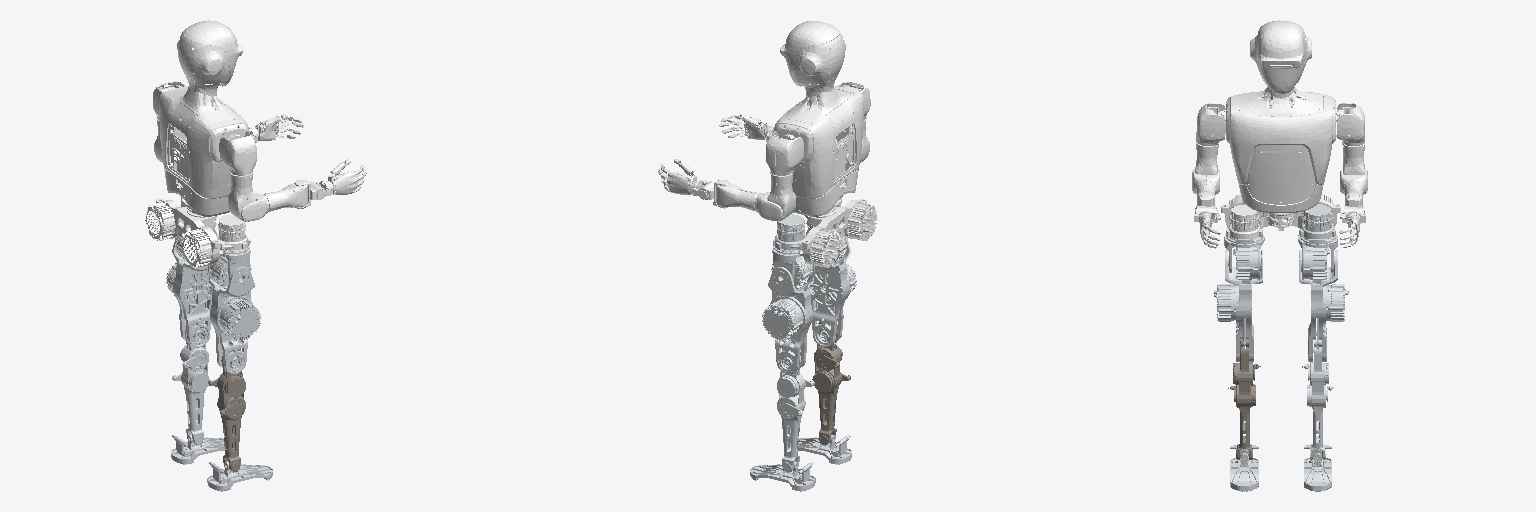
robot.urdf — lapi_description:
<?xml version="1.0" encoding="utf-8"?>

<robot name="lapi_description">
  <link name="base_link">
    <inertial>
      <origin xyz="0.027128 0.000293 0.10205" rpy="0 0 0" />
      <mass value="28" />
      <inertia
        ixx="1.4945"
        ixy="-0.005071"
        ixz="0.10439"
        iyy="1.222"
        iyz="0.000433"
        izz="1.0953" />
    </inertial>
    <visual>
      <origin xyz="0 0 0" rpy="0 0 0" />
      <geometry>
        <mesh filename="package://lapi_description/meshes/base_link.STL" />
      </geometry>
      <material name="">
        <color rgba="1 1 1 1" />
      </material>
    </visual>
    <collision>
      <origin xyz="0 0 0.2" rpy="0 0 0" />
      <geometry>
        <box size="0.20 0.33 0.35" />
      </geometry>
    </collision>
    <collision>
      <origin xyz="0.01 0.24 0.3" rpy="0 1.57 0" />
      <geometry>
        <cylinder radius="0.06" length="0.09 "/>
      </geometry>
    </collision>
    <collision>
      <origin xyz="0.01 0.25 0.13" rpy="0 0 0" />
      <geometry>
        <cylinder radius="0.04" length="0.15 "/>
      </geometry>
    </collision>
    <collision>
      <origin xyz="0.26 0.25 0.08" rpy="0 1.57 0" />
      <geometry>
        <cylinder radius="0.04" length="0.4 "/>
      </geometry>
    </collision>
    <collision>
      <origin xyz="0.01 -0.24 0.3" rpy="0 1.57 0" />
      <geometry>
        <cylinder radius="0.06" length="0.09 "/>
      </geometry>
    </collision>
    <collision>
      <origin xyz="0.01 -0.25 0.13" rpy="0 0 0" />
      <geometry>
        <cylinder radius="0.04" length="0.15 "/>
      </geometry>
    </collision>
    <collision>
      <origin xyz="0.26 -0.25 0.08" rpy="0 1.57 0" />
      <geometry>
        <cylinder radius="0.04" length="0.4 "/>
      </geometry>
    </collision>
    <collision>
      <origin xyz="-0.08 -0.125 -0.1" rpy="0 1.57 0" />
      <geometry>
        <cylinder radius="0.07" length="0.072 "/>
      </geometry>
    </collision>
    <collision>
      <origin xyz="-0.08 0.125 -0.1" rpy="0 1.57 0" />
      <geometry>
        <cylinder radius="0.07" length="0.072"/>
      </geometry>
    </collision>
    <collision>
      <origin xyz="0 0 -0.05" rpy="0 0 0" />
      <geometry>
        <cylinder radius="0.05" length="0.07"/>
      </geometry>
    </collision>
  </link>
  <link name="Hip_L_Roll_Link">
    <inertial>
      <origin xyz="0.078109 0 0.024666" rpy="0 0 0" />
      <mass value="2.28" />
      <inertia
        ixx="0.002612"
        ixy="2E-06"
        ixz="0.000477"
        iyy="0.003754"
        iyz="2E-06"
        izz="0.003834" />
    </inertial>
    <visual>
      <origin xyz="0 0 0" rpy="0 0 0" />
      <geometry>
        <mesh filename="package://lapi_description/meshes/Hip_L_Roll_Link.STL" />
      </geometry>
      <material name="">
        <color rgba="0.89804 0.91765 0.92941 1" />
      </material>
    </visual>
    <collision>
      <origin xyz="0.09 0 -0.006" rpy="0 0 0" />
      <geometry>
        <cylinder radius="0.07" length="0.035" />
      </geometry>
    </collision>
    <collision>
      <origin xyz="0.09 0 0.05" rpy="0 0 0" />
      <geometry>
        <cylinder radius="0.05" length="0.06" />
      </geometry>
    </collision>
  </link>
  <joint name="Hip_L_Roll_Joint" type="revolute">
    <origin xyz="-0.042 0.1275 -0.097" rpy="0 0 0" />
    <parent link="base_link" />
    <child link="Hip_L_Roll_Link" />
    <axis xyz="1 0 0" />
    <limit lower="-0.227" upper="0.523" effort="200" velocity="5" />
  </joint>
  <link name="Hip_L_Yaw_Link">
    <inertial>
      <origin xyz="0.000217 -0.004903 -0.085363" rpy="0 0 0" />
      <mass value="3.738" />
      <inertia
        ixx="0.008843"
        ixy="6E-06"
        ixz="0.000109"
        iyy="0.008235"
        iyz="6E-06"
        izz="0.004503" />
    </inertial>
    <visual>
      <origin xyz="0 0 0" rpy="0 0 0" />
      <geometry>
        <mesh filename="package://lapi_description/meshes/Hip_L_Yaw_Link.STL" />
      </geometry>
      <material name="">
        <color rgba="0.89804 0.91765 0.92941 1" />
      </material>
    </visual>
    <collision>
      <origin xyz="0 0 -0.11" rpy="1.57 0 0" />
      <geometry>
        <cylinder radius="0.07" length="0.13"/>
      </geometry>
    </collision>
  </link>
  <joint name="Hip_L_Yaw_Joint" type="revolute">
    <origin xyz="0.087 0 -0.0135" rpy="0 0 0" />
    <parent link="Hip_L_Roll_Link" />
    <child link="Hip_L_Yaw_Link" />
    <axis xyz="0 0 1" />
    <limit lower="-0.5" upper="0.65" effort="200" velocity="5" />
  </joint>
  <link name="Hip_L_Pitch_Link">
    <inertial>
      <origin xyz="-7.7E-05 0.02564 -0.167614" rpy="0 0 0" />
      <mass value="6.22" />
      <inertia
        ixx="0.056729"
        ixy="-1.7E-05"
        ixz="0.000267"
        iyy="0.053228"
        iyz="0.003198"
        izz="0.012699" />
    </inertial>
    <visual>
      <origin xyz="0 0 0" rpy="0 0 0" />
      <geometry>
        <mesh filename="package://lapi_description/meshes/Hip_L_Pitch_Link.STL" />
      </geometry>
      <material name="">
        <color rgba="0.89804 0.91765 0.92941 1" />
      </material>
    </visual>
    <collision>
      <origin xyz="0 0.035 -0.16" rpy="1.57 0 0" />
      <geometry>
        <cylinder radius="0.08" length="0.12"/>
      </geometry>
    </collision>
    <collision>
      <origin xyz="0 0 -0.22" rpy="0 0 0" />
      <geometry>
        <box size="0.13 0.07 0.25"/>
      </geometry>
    </collision>
  </link>
  <joint name="Hip_L_Pitch_Joint" type="revolute">
    <origin
      xyz="0 0 -0.10595"
      rpy="0 0 0" />
    <parent link="Hip_L_Yaw_Link" />
    <child link="Hip_L_Pitch_Link" />
    <axis xyz="0 1 0" />
    <limit lower="-0.78" upper="0.78" effort="200" velocity="5" />
  </joint>
  <link name="Knee_L_Pitch_Link">
    <inertial>
      <origin xyz="-0.002029 -8.4E-05 -0.156302" rpy="0 0 0" />
      <mass value="3.32" />
      <inertia
        ixx="0.02978"
        ixy="1E-06"
        ixz="-9.6E-05"
        iyy="0.030147"
        iyz="-0.000254"
        izz="0.001936" />
    </inertial>
    <visual>
      <origin xyz="0 0 0" rpy="0 0 0" />
      <geometry>
        <mesh filename="package://lapi_description/meshes/Knee_L_Pitch_Link.STL" />
      </geometry>
      <material name="">
        <color rgba="0.89804 0.91765 0.92941 1" />
      </material>
    </visual>
    <collision>
      <origin xyz="0 0 -0.22" rpy="0 0 0" />
      <geometry>
        <box size="0.1 0.08 0.3"/>
      </geometry>
    </collision>
  </link>
  <joint name="Knee_L_Pitch_Joint" type="revolute">
    <origin xyz="0 0 -0.34" rpy="0 0 0" />
    <parent link="Hip_L_Pitch_Link" />
    <child link="Knee_L_Pitch_Link" />
    <axis xyz="0 1 0" />
    <limit lower="0" upper="1.2" effort="200" velocity="5" />
  </joint>
  <link name="Ankle_L_Pitch_Link">
    <inertial>
      <origin xyz="0 0 0" rpy="0 0 0" />
      <mass value="0.088" />
      <inertia
        ixx="8E-06"
        ixy="0"
        ixz="0"
        iyy="8E-06"
        iyz="0"
        izz="1.4E-05" />
    </inertial>
    <visual>
      <origin xyz="0 0 0" rpy="0 0 0" />
      <geometry>
        <mesh filename="package://lapi_description/meshes/Ankle_L_Pitch_Link.STL" />
      </geometry>
      <material name="">
        <color rgba="0.65098 0.61961 0.58824 1" />
      </material>
    </visual>
  </link>
  <joint name="Ankle_L_Pitch_Joint" type="revolute">
    <origin xyz="0 0 -0.4" rpy="0 0 0" />
    <parent link="Knee_L_Pitch_Link" />
    <child link="Ankle_L_Pitch_Link" />
    <axis xyz="0 1 0" />
    <limit lower="-0.78" upper="0.57" effort="200" velocity="5" />
  </joint>
  <link name="Ankle_L_Roll_Link">
    <inertial>
      <origin xyz="0.006111 0 -0.039985" rpy="0 0 0" /> 
      <mass value="0.758" />
      <inertia
        ixx="0.000766"
        ixy="0"
        ixz="0.000396"
        iyy="0.003773"
        iyz="0"
        izz="0.003919" />
    </inertial>
    <visual>
      <origin xyz="0 0 0" rpy="0 0 0" />
      <geometry>
        <mesh filename="package://lapi_description/meshes/Ankle_L_Roll_Link.STL" />
      </geometry>
      <material name="">
        <color rgba="0.89804 0.91765 0.92941 1" />
      </material>
    </visual>
    <collision>
      <origin xyz="0.037 0 -0.06" rpy="0 0 0" />
      <geometry>
        <box size="0.25 0.1 0.025" />
      </geometry>
    </collision>
  </link>
  <joint name="Ankle_L_Roll_Joint" type="revolute">
    <origin xyz="0 0 0" rpy="0 0 0" />
    <parent link="Ankle_L_Pitch_Link" />
    <child link="Ankle_L_Roll_Link" />
    <axis xyz="1 0 0" />
    <limit lower="-0.35" upper="0.35" effort="200" velocity="5" />
  </joint>
  <link name="Hip_R_Roll_Link">
    <inertial>
      <origin xyz="0.078109 0 0.024666" rpy="0 0 0" />
      <mass value="2.28" />
      <inertia
        ixx="0.002612"
        ixy="2E-06"
        ixz="0.000477"
        iyy="0.003754"
        iyz="2E-06"
        izz="0.003834" />
    </inertial>
    <visual>
      <origin xyz="0 0 0" rpy="0 0 0" />
      <geometry>
        <mesh filename="package://lapi_description/meshes/Hip_R_Roll_Link.STL" />
      </geometry>
      <material name="">
        <color rgba="1 1 1 1" />
      </material>
    </visual>
    <collision>
      <origin xyz="0.09 0 -0.006" rpy="0 0 0" />
      <geometry>
        <cylinder radius="0.07" length="0.035" />
      </geometry>
    </collision>
    <collision>
      <origin xyz="0.09 0 0.05" rpy="0 0 0" />
      <geometry>
        <cylinder radius="0.05" length="0.06" />
      </geometry>
    </collision>
  </link>
  <joint name="Hip_R_Roll_Joint" type="revolute">
    <origin xyz="-0.042 -0.1275 -0.097" rpy="0 0 0" />
    <parent link="base_link" />
    <child link="Hip_R_Roll_Link" />
    <axis xyz="1 0 0" />
    <limit lower="-0.52" upper="0.23" effort="200" velocity="5" />
  </joint>
  <link name="Hip_R_Yaw_Link">
    <inertial>
      <origin xyz="0.000217 0.004903 -0.085363" rpy="0 0 0" />
      <mass value="4.801" />
      <inertia
        ixx="0.008843"
        ixy="-6E-06"
        ixz="0.000109"
        iyy="0.008235"
        iyz="-6E-06"
        izz="0.004503" />
    </inertial>
    <visual>
      <origin xyz="0 0 0" rpy="0 0 0" />
      <geometry>
        <mesh filename="package://lapi_description/meshes/Hip_R_Yaw_Link.STL" />
      </geometry>
      <material name="">
        <color rgba="0.89804 0.91765 0.92941 1" />
      </material>
    </visual>
    <collision>
      <origin xyz="0 0 -0.11" rpy="1.57 0 0" />
      <geometry>
        <cylinder radius="0.07" length="0.13"/>
      </geometry>
    </collision>
  </link>
  <joint name="Hip_R_Yaw_Joint" type="revolute">
    <origin xyz="0.087 0 -0.0135" rpy="0 0 0" />
    <parent link="Hip_R_Roll_Link" />
    <child link="Hip_R_Yaw_Link" />
    <axis xyz="0 0 1" />
    <limit lower="-0.65" upper="0.5" effort="200" velocity="5" />
  </joint>
  <link name="Hip_R_Pitch_Link">
    <inertial>
      <origin xyz="-7E-06 -0.02564 -0.167614" rpy="0 0 0" />
      <mass value="6.22" />
      <inertia
        ixx="0.056729"
        ixy="1.7E-05"
        ixz="0.000267"
        iyy="0.053228"
        iyz="-0.003198"
        izz="0.012699" />
    </inertial>
    <visual>
      <origin xyz="0 0 0" rpy="0 0 0" />
      <geometry>
        <mesh filename="package://lapi_description/meshes/Hip_R_Pitch_Link.STL" />
      </geometry>
      <material name="">
        <color rgba="0.89804 0.91765 0.92941 1" />
      </material>
    </visual>
    <collision>
      <origin xyz="0 -0.035 -0.16" rpy="1.57 0 0" />
      <geometry>
        <cylinder radius="0.08" length="0.12"/>
      </geometry>
    </collision>
    <collision>
      <origin xyz="0 0 -0.22" rpy="0 0 0" />
      <geometry>
        <box size="0.13 0.07 0.25"/>
      </geometry>
    </collision>
  </link>
  <joint name="Hip_R_Pitch_Joint" type="revolute">
    <origin xyz="0 0 -0.10595" rpy="0 0 0" />
    <parent link="Hip_R_Yaw_Link" />
    <child link="Hip_R_Pitch_Link" />
    <axis xyz="0 1 0" />
    <limit lower="-0.78" upper="0.78" effort="200" velocity="5" />
  </joint>
  <link name="Knee_R_Pitch_Link">
    <inertial>
      <origin xyz="-0.002029 8.4E-05 -0.156302" rpy="0 0 0" />
      <mass value="3.32" />
      <inertia
        ixx="0.02978"
        ixy="-1E-06"
        ixz="9.6E-05"
        iyy="0.030147"
        iyz="0.000254"
        izz="0.001936" />
    </inertial>
    <visual>
      <origin xyz="0 0 0" rpy="0 0 0" />
      <geometry>
        <mesh filename="package://lapi_description/meshes/Knee_R_Pitch_Link.STL" />
      </geometry>
      <material name="">
        <color rgba="0.64706 0.61961 0.58824 1" />
      </material>
    </visual>
    <collision>
      <origin xyz="0 0 -0.22" rpy="0 0 0" />
      <geometry>
        <box size="0.1 0.08 0.3"/>
      </geometry>
    </collision>
  </link>
  <joint name="Knee_R_Pitch_Joint" type="revolute">
    <origin xyz="0 0 -0.34" rpy="0 0 0" />
    <parent link="Hip_R_Pitch_Link" />
    <child link="Knee_R_Pitch_Link" />
    <axis xyz="0 1 0" />
    <limit lower="0" upper="1.2" effort="200" velocity="5" />
  </joint>
  <link name="Ankle_R_Pitch_Link">
    <inertial>
      <origin xyz="0 0 0" rpy="0 0 0" />
      <mass value="0.088" />
      <inertia
        ixx="8E-06"
        ixy="0"
        ixz="0"
        iyy="8E-06"
        iyz="0"
        izz="1.4E-06" />
    </inertial>
    <visual>
      <origin xyz="0 0 0" rpy="0 0 0" />
      <geometry>
        <mesh filename="package://lapi_description/meshes/Ankle_R_Pitch_Link.STL" />
      </geometry>
      <material name="">
        <color rgba="0.65098 0.61961 0.58824 1" />
      </material>
    </visual>
  </link>
  <joint name="Ankle_R_Pitch_Joint" type="revolute">
    <origin xyz="0 0 -0.4" rpy="0 0 0" />
    <parent link="Knee_R_Pitch_Link" />
    <child link="Ankle_R_Pitch_Link" />
    <axis xyz="0 1 0" />
    <limit lower="-0.78" upper="0.57" effort="200" velocity="5" />
  </joint>
  <link name="Ankle_R_Roll_Link">
    <inertial>
      <origin xyz="0.006111 0 -0.039985" rpy="0 0 0" /> 
      <mass value="0.758" />
      <inertia
        ixx="0.000766"
        ixy="0"
        ixz="0.000396"
        iyy="0.003773"
        iyz="0"
        izz="0.003919" />
    </inertial>
    <visual>
      <origin xyz="0 0 0" rpy="0 0 0" />
      <geometry>
        <mesh filename="package://lapi_description/meshes/Ankle_R_Roll_Link.STL" />
      </geometry>
      <material name="">
        <color rgba="0.89804 0.91765 0.92941 1" />
      </material>
    </visual>
    <collision>
      <origin xyz="0.037 0 -0.06" rpy="0 0 0" />
      <geometry>
        <box size="0.25 0.1 0.025" />
      </geometry>
    </collision>
  </link>
  <joint name="Ankle_R_Roll_Joint" type="revolute">
    <origin xyz="0 0 0" rpy="0 0 0" />
    <parent link="Ankle_R_Pitch_Link" />
    <child link="Ankle_R_Roll_Link" />
    <axis xyz="1 0 0" />
    <limit lower="-0.35" upper="0.35" effort="200" velocity="5" />
  </joint>
</robot>

--- Facts derived from the render (not from the file) ---
3 views of the same robot in one strip: view 1: azimuth 30°, elevation 25°; view 2: azimuth 150°, elevation 25°; view 3: azimuth 270°, elevation 25° (orthographic).
Model lapi_description with 13 links and 12 joints (12 revolute), rooted at base_link, posed every joint at zero.
Visible links, largest first — view 1: base_link, Hip_R_Pitch_Link, Hip_L_Pitch_Link, Knee_R_Pitch_Link, Knee_L_Pitch_Link, Ankle_R_Roll_Link, Hip_R_Yaw_Link, Ankle_L_Roll_Link, Hip_R_Roll_Link; view 2: base_link, Hip_L_Pitch_Link, Hip_R_Pitch_Link, Knee_L_Pitch_Link, Knee_R_Pitch_Link, Ankle_L_Roll_Link, Hip_L_Yaw_Link, Ankle_R_Roll_Link, Hip_L_Roll_Link; view 3: base_link, Hip_R_Pitch_Link, Hip_L_Pitch_Link, Knee_R_Pitch_Link, Knee_L_Pitch_Link, Hip_L_Yaw_Link, Hip_R_Yaw_Link, Ankle_R_Roll_Link, Ankle_L_Roll_Link, Hip_L_Roll_Link, Hip_R_Roll_Link.
Boxes of the visible links, box(x1,y1,x2,y2) form: base_link: box(145, 20, 366, 267); Hip_R_Pitch_Link: box(209, 267, 260, 373); Hip_L_Pitch_Link: box(166, 238, 212, 347); Knee_R_Pitch_Link: box(208, 348, 245, 471); Knee_L_Pitch_Link: box(172, 322, 209, 444); Ankle_R_Roll_Link: box(207, 461, 272, 491); Hip_R_Yaw_Link: box(208, 239, 251, 289); Ankle_L_Roll_Link: box(171, 435, 224, 464); Hip_R_Roll_Link: box(217, 214, 247, 249); base_link: box(658, 21, 877, 267); Hip_L_Pitch_Link: box(762, 267, 813, 373); Hip_R_Pitch_Link: box(809, 238, 856, 347); Knee_L_Pitch_Link: box(777, 348, 814, 471); Knee_R_Pitch_Link: box(812, 322, 850, 444); Ankle_L_Roll_Link: box(750, 461, 815, 491); Hip_L_Yaw_Link: box(771, 239, 814, 289); Ankle_R_Roll_Link: box(798, 435, 851, 464); Hip_L_Roll_Link: box(775, 214, 805, 250); base_link: box(1192, 20, 1367, 248); Hip_R_Pitch_Link: box(1214, 250, 1262, 361); Hip_L_Pitch_Link: box(1299, 250, 1348, 361); Knee_R_Pitch_Link: box(1228, 340, 1260, 459); Knee_L_Pitch_Link: box(1302, 339, 1333, 459); Hip_L_Yaw_Link: box(1298, 234, 1337, 279); Hip_R_Yaw_Link: box(1224, 235, 1264, 279); Ankle_R_Roll_Link: box(1230, 445, 1258, 491); Ankle_L_Roll_Link: box(1304, 445, 1331, 491); Hip_L_Roll_Link: box(1299, 204, 1335, 238); Hip_R_Roll_Link: box(1226, 204, 1262, 239).
Size in the robot's own frame: 0.6598 by 0.6108 by 1.71 metres.
Meshes: 13 distinct files referenced, 13 mesh visuals loaded (13 binary STL).